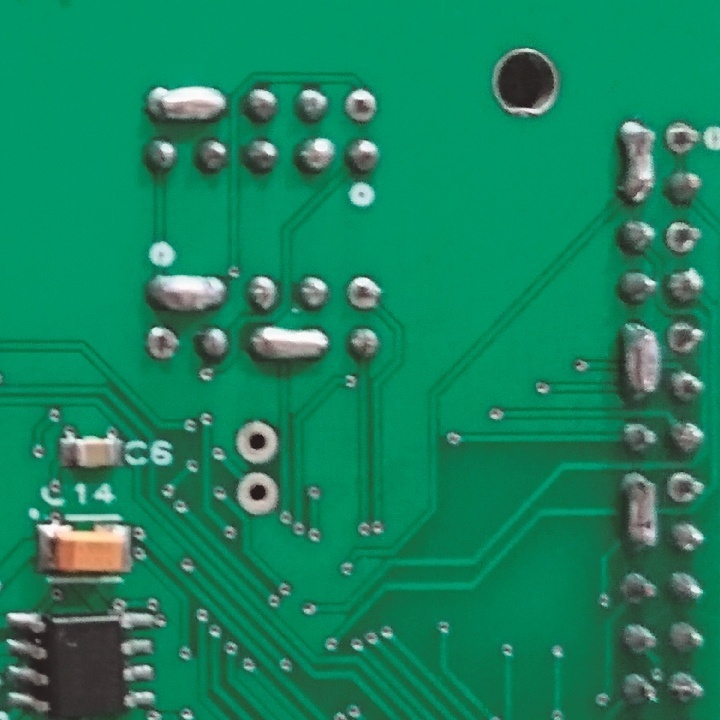F: (231, 418, 284, 468), (235, 466, 283, 518), (665, 315, 707, 357), (665, 466, 706, 508), (661, 118, 701, 161), (145, 322, 181, 366), (341, 85, 382, 123), (346, 272, 382, 315), (664, 218, 702, 258)
P: (244, 321, 332, 366), (141, 82, 230, 126), (616, 318, 660, 404), (618, 118, 659, 209), (619, 471, 662, 556), (147, 272, 231, 312)
